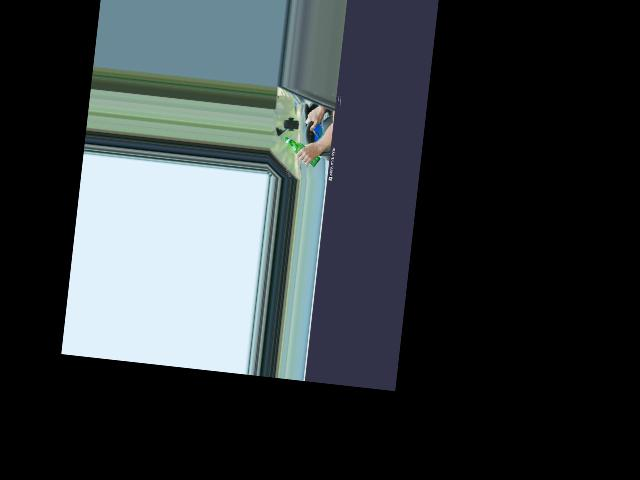beer: (282, 136, 322, 166)
